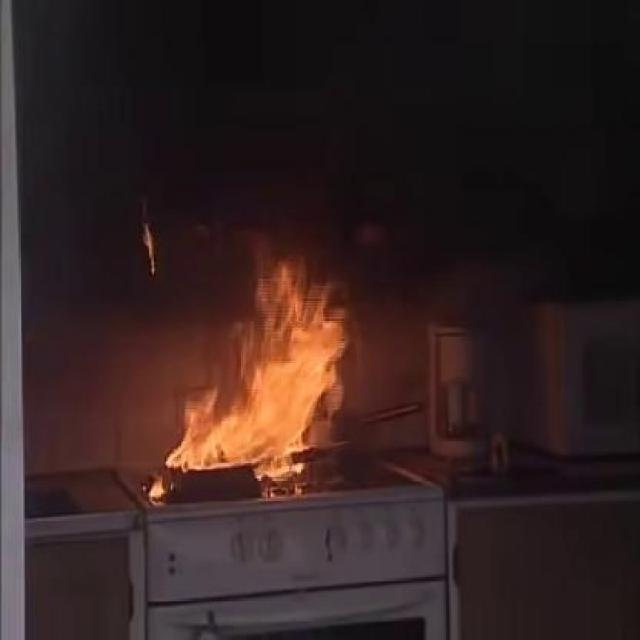fire: (180, 248, 348, 462)
